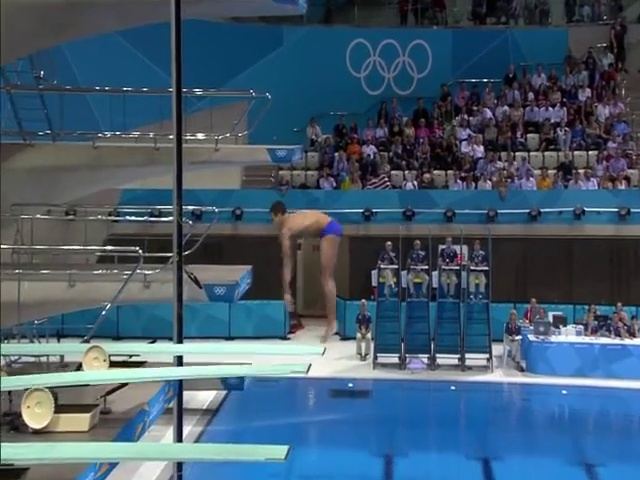diver: (267, 200, 341, 343)
